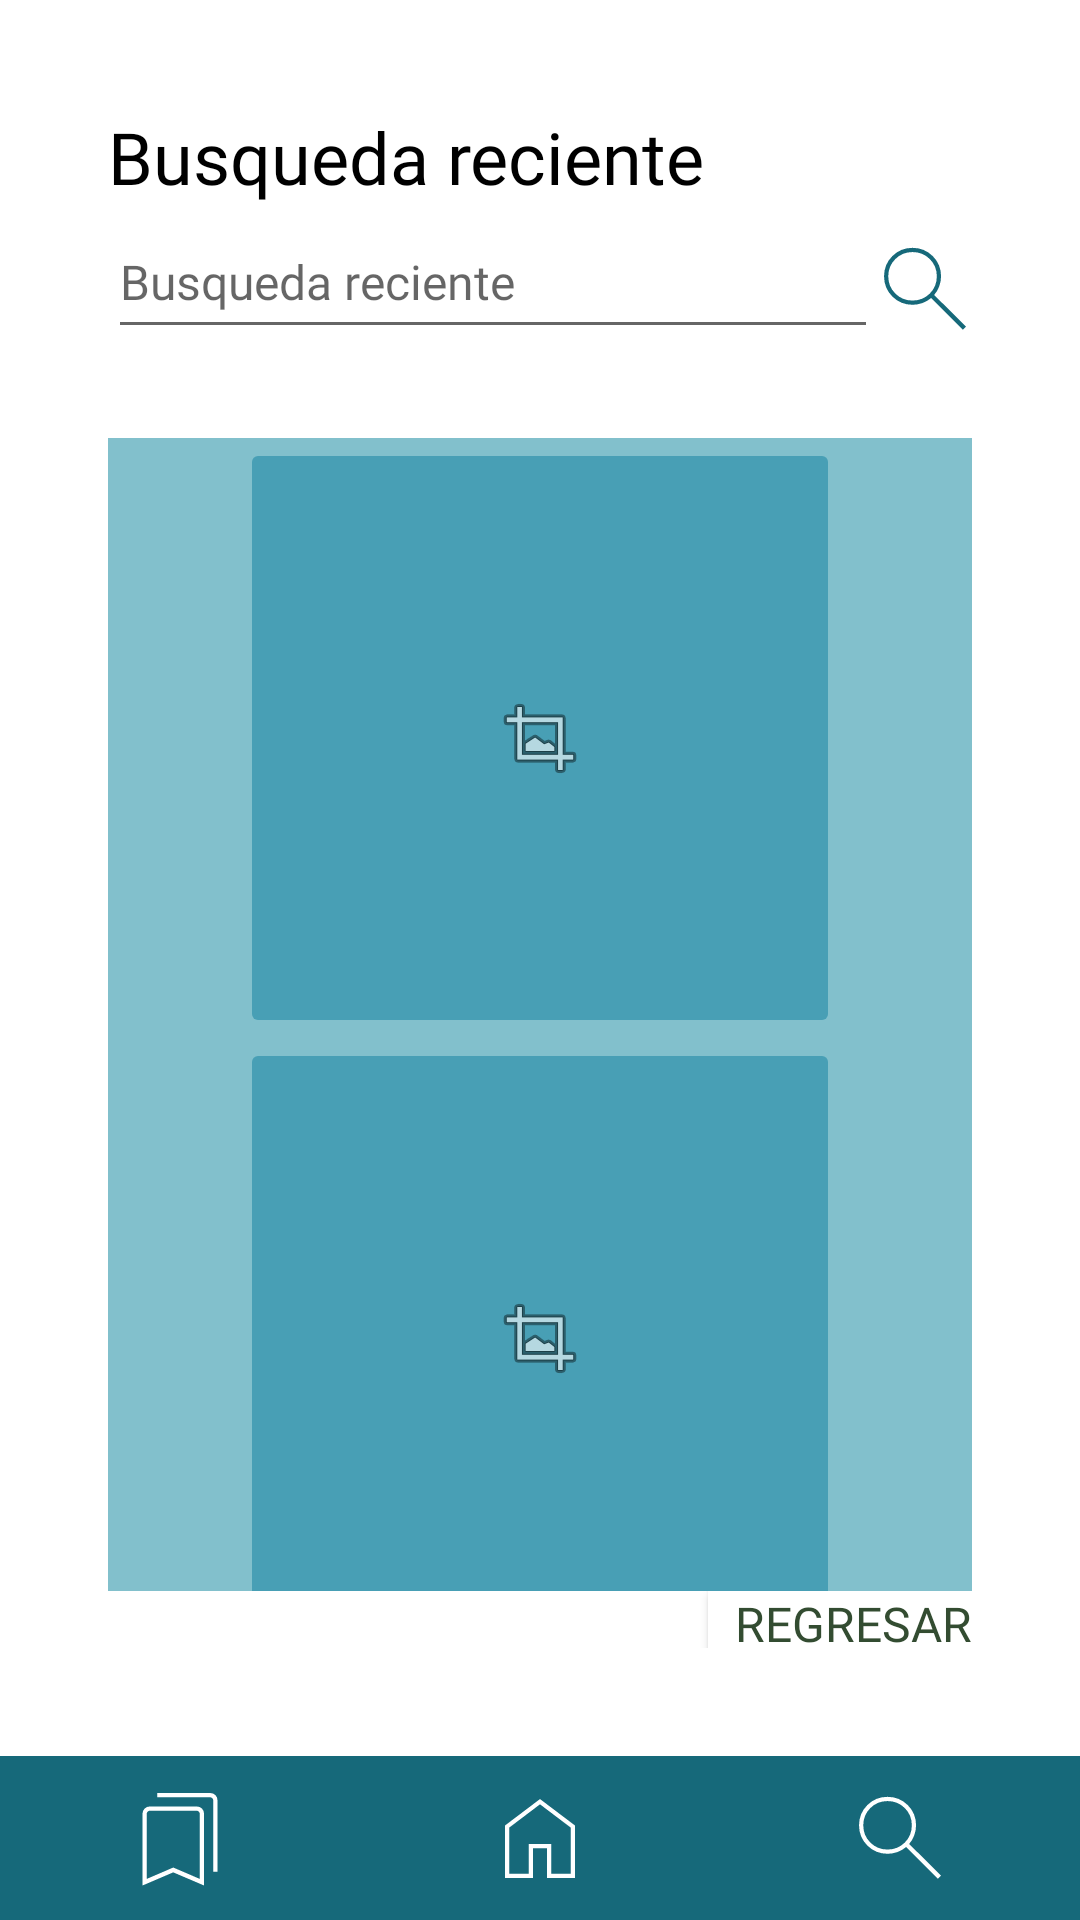

Screen size 1080px x 1920px. Icon name, then its center in pixels as (x,y):
bookmarks: (180,1839)
home: (540,1838)
search: (925,288), (900,1837)
